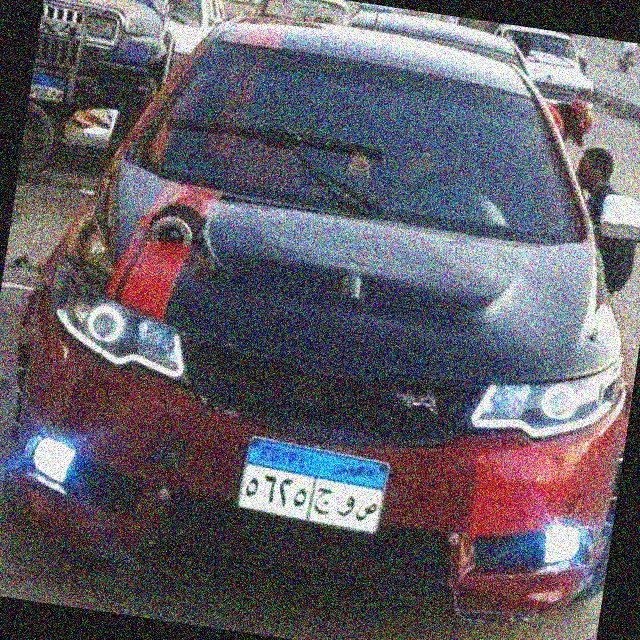License Plate: (232, 431, 392, 539)
